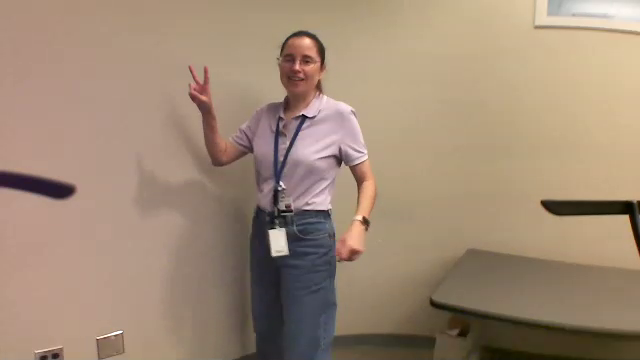peace: (185, 60, 215, 106)
